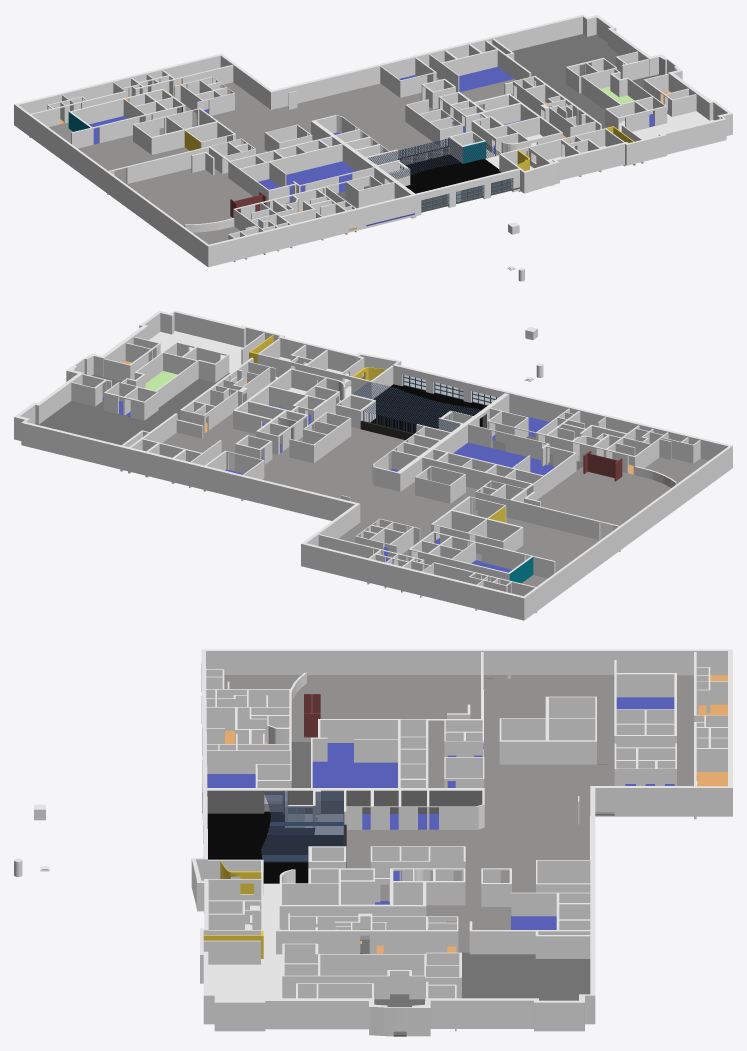
Rendered from office.glb.
3 renders of one model, top to bottom at view 1: azimuth 30°, elevation 25°; view 2: azimuth 150°, elevation 25°; view 3: azimuth 270°, elevation 25°, orthographic. The views are drawn at different scales.
Visible parts, largest first — view 1: OuterWall, polySurface158, polySurface155, polySurface15, polySurface75, pCube68, pCube59, pCube67, polySurface93, pCube14, pCube3, pCube35 (+33 smaller); view 2: OuterWall, polySurface158, polySurface155, polySurface15, polySurface75, pCube68, pCube59, polySurface93, pCube67, pCube14, pCube61, pCube3 (+36 smaller); view 3: OuterWall, polySurface75, polySurface158, polySurface155, polySurface15, pCube14, pCube67, pCube55, polySurface93, pCube68, pCube3, pCube59 (+39 smaller).
Part boxes in pixels (bbox=[...]): OuterWall: bbox=[14, 14, 732, 267]; polySurface158: bbox=[277, 77, 515, 158]; polySurface155: bbox=[512, 34, 713, 139]; polySurface15: bbox=[125, 168, 252, 234]; polySurface75: bbox=[49, 106, 279, 183]; pCube68: bbox=[68, 88, 185, 148]; pCube59: bbox=[238, 143, 374, 207]; pCube67: bbox=[133, 108, 235, 154]; polySurface93: bbox=[400, 154, 519, 212]; pCube14: bbox=[513, 75, 601, 143]; pCube3: bbox=[581, 68, 653, 121]; pCube35: bbox=[465, 102, 540, 145]; OuterWall: bbox=[14, 310, 732, 620]; polySurface158: bbox=[162, 413, 407, 516]; polySurface155: bbox=[35, 331, 242, 445]; polySurface15: bbox=[536, 466, 670, 539]; polySurface75: bbox=[367, 495, 599, 586]; pCube68: bbox=[408, 531, 555, 584]; pCube59: bbox=[433, 424, 576, 494]; polySurface93: bbox=[370, 384, 486, 433]; pCube67: bbox=[431, 496, 523, 554]; pCube14: bbox=[180, 357, 275, 433]; pCube61: bbox=[536, 411, 638, 462]; pCube3: bbox=[120, 352, 198, 407]; OuterWall: bbox=[191, 649, 732, 1036]; polySurface75: bbox=[483, 675, 693, 801]; polySurface158: bbox=[346, 814, 589, 952]; polySurface155: bbox=[208, 939, 590, 1036]; polySurface15: bbox=[291, 675, 483, 741]; pCube14: bbox=[276, 913, 458, 954]; pCube67: bbox=[499, 696, 596, 764]; pCube55: bbox=[207, 788, 484, 813]; polySurface93: bbox=[207, 811, 343, 883]; pCube68: bbox=[614, 660, 676, 758]; pCube3: bbox=[318, 954, 425, 999]; pCube59: bbox=[311, 719, 400, 787].
Bounding box in the file's own units: 97.52 × 8.55 × 81.93.
